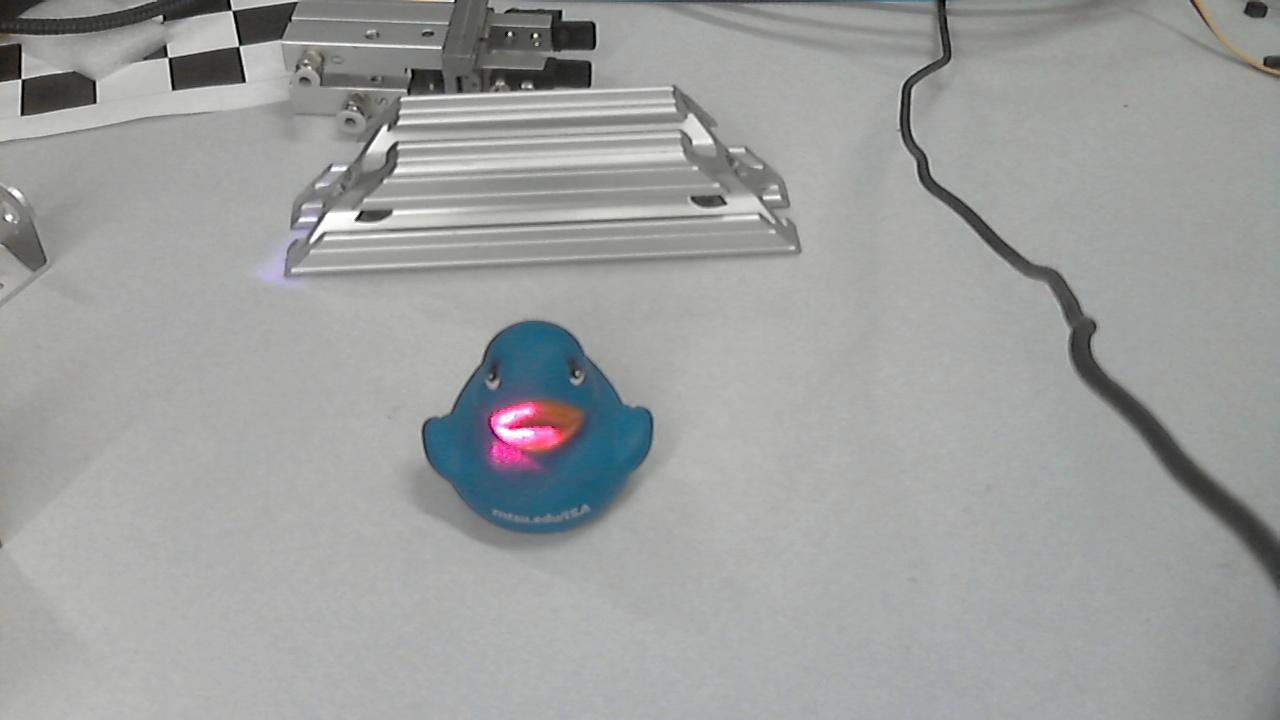Object rubber duck - Material rubber -Color blue - Pdfname BWuUnwTLudUE: (467, 380, 577, 487)
